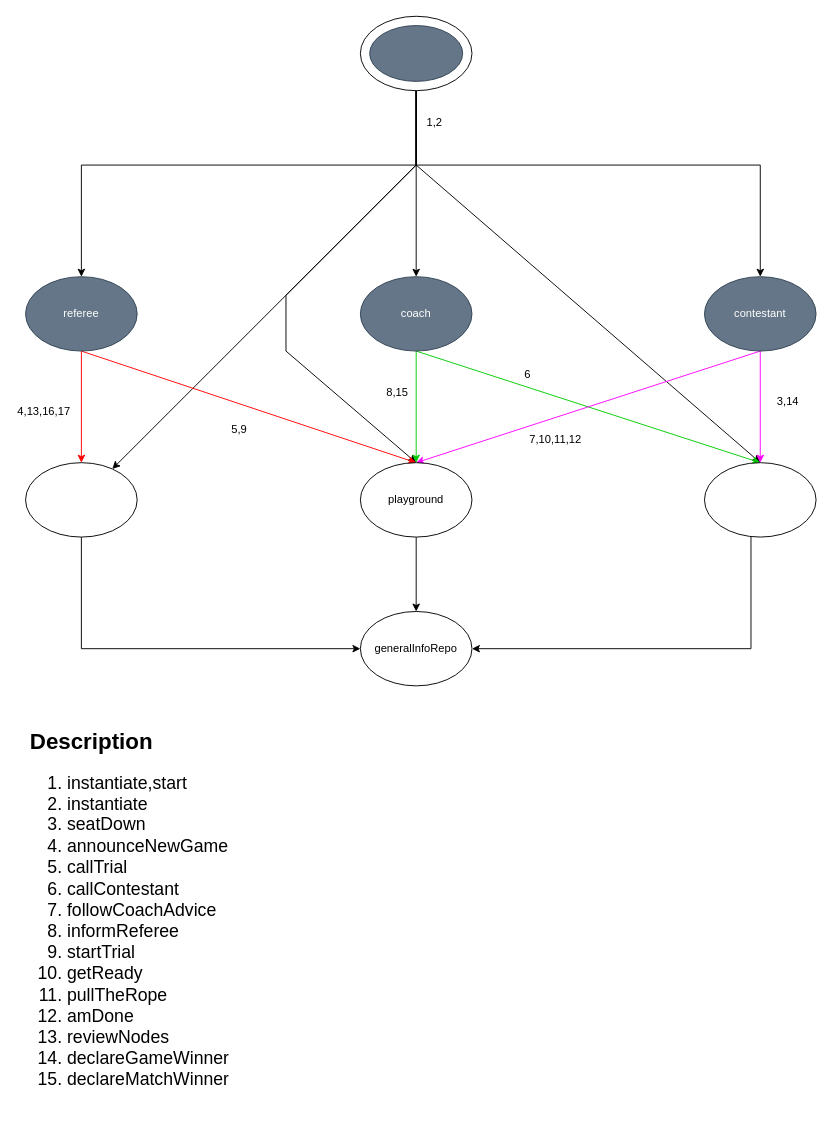
The diagram is 832 pixels wide and 1121 high, and some of its shapes have lost their labels. The centre of each missing label's shape, as x and y in pixels:
contestantBench: point 760,499
GameOfRope: point 416,53
refereeSite: point 81,499
